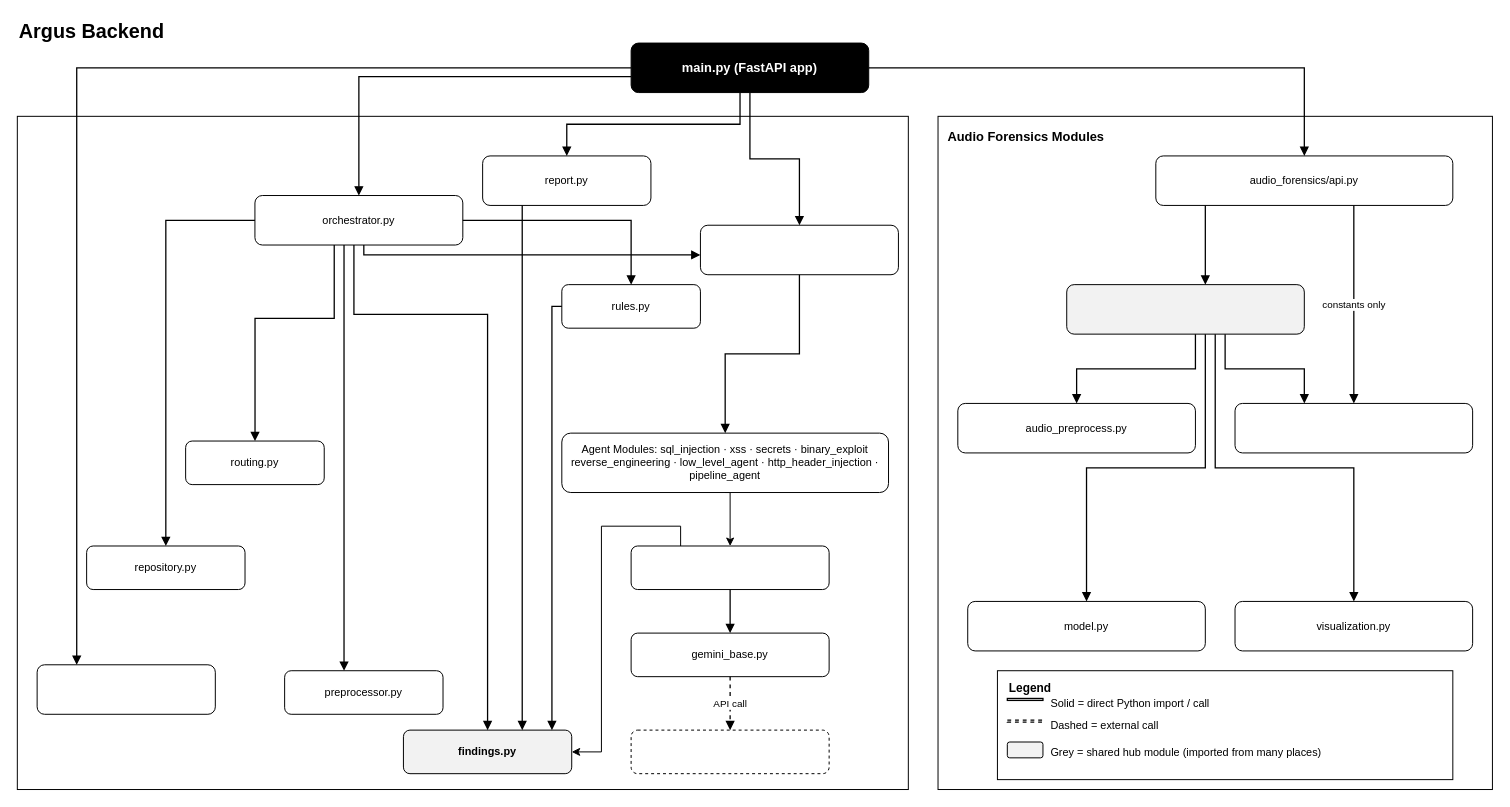
Image size: 1510x807. Some labels were removed from this diagram. The box of each missing label's shape, as (x1, y1, x2, y2) in pixels:
agents/__init__.py: (699, 224, 898, 275)
agents/base_agent.py: (630, 545, 829, 590)
github.py: (36, 664, 215, 714)
Google Gemini API (external): (630, 729, 829, 774)
inference.py: (1066, 284, 1304, 334)
interpretation.py: (1234, 402, 1473, 453)
Security Analysis Modules: (16, 115, 908, 790)
